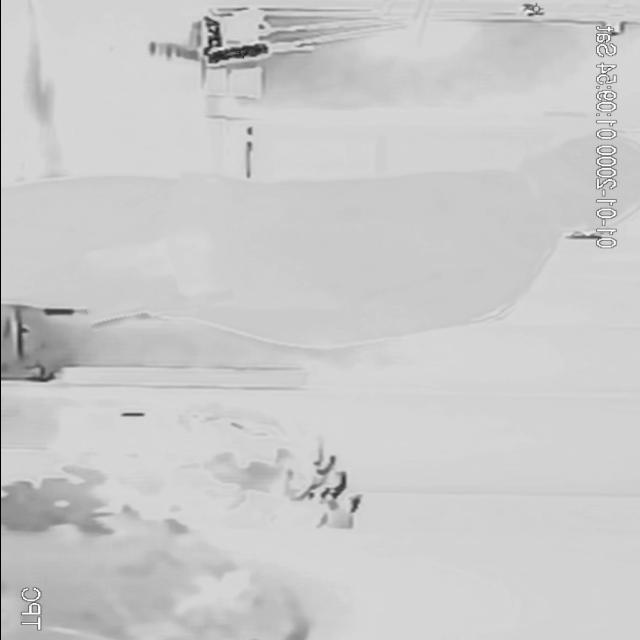Weapon: (73, 210, 228, 324)
